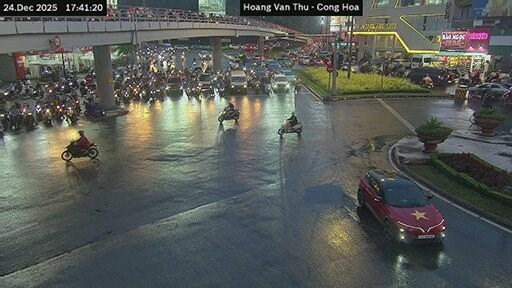motorbike: (60, 140, 98, 160), (278, 118, 301, 135), (83, 100, 105, 115), (218, 108, 239, 121)
